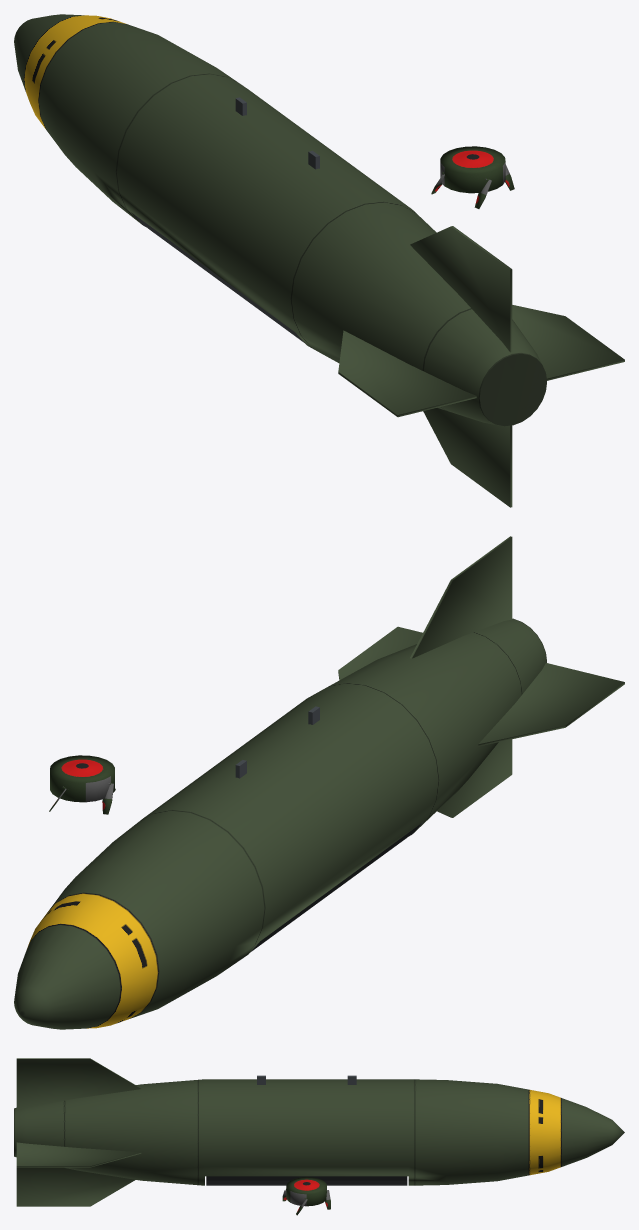
The model's file is ClusterBomb.fbx.
3 renders of one model, top to bottom at view 1: azimuth 30°, elevation 25°; view 2: azimuth 150°, elevation 25°; view 3: azimuth 270°, elevation 25°, orthographic. The views are drawn at different scales.
Parts seen in each view (by area): view 1: ClusterBomb_Dispenser, Submunition_Mine, CBU_Door_L; view 2: ClusterBomb_Dispenser, Submunition_Mine, CBU_Door_L; view 3: ClusterBomb_Dispenser, CBU_Door_R, Submunition_Mine.
Part boxes in pixels (x1,y1,x2,y2): ClusterBomb_Dispenser: [14, 14, 624, 507]; Submunition_Mine: [440, 146, 505, 193]; CBU_Door_L: [134, 214, 304, 342]; ClusterBomb_Dispenser: [14, 536, 624, 1029]; Submunition_Mine: [50, 755, 114, 802]; CBU_Door_L: [251, 823, 421, 951]; ClusterBomb_Dispenser: [14, 1058, 624, 1206]; CBU_Door_R: [206, 1176, 407, 1185]; Submunition_Mine: [286, 1177, 326, 1206].
Bounding box in the file's own units: 96.52 × 64 × 240.
